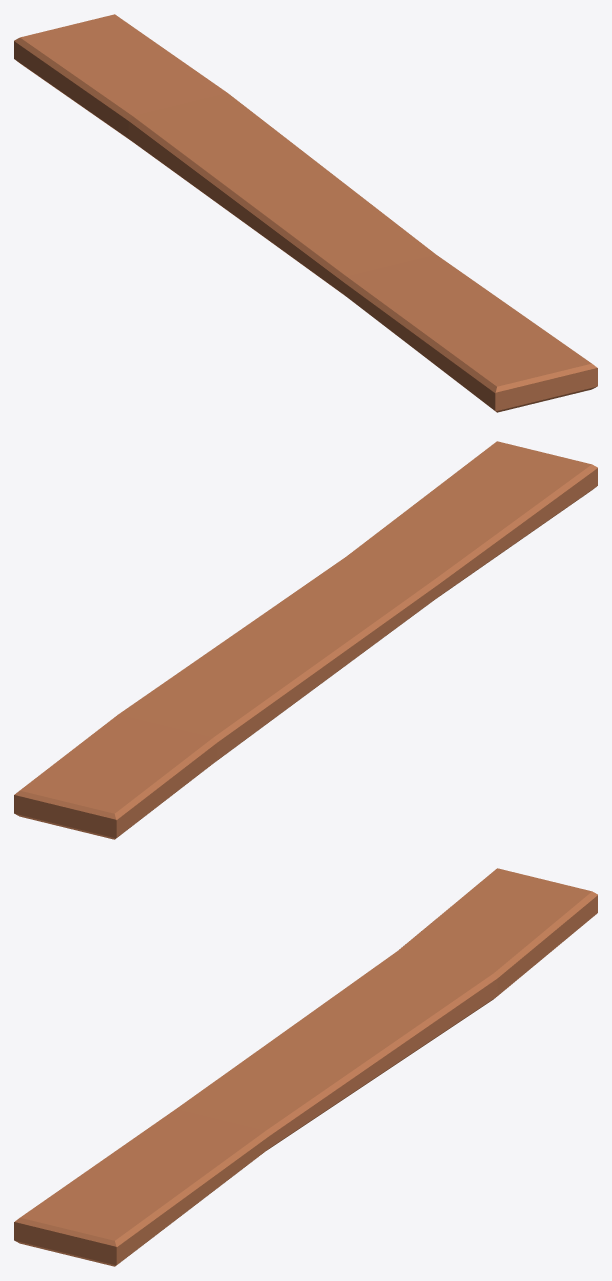
File: Board.fbx
The picture shows the model from 3 angles, top to bottom: view 1: azimuth 30°, elevation 25°; view 2: azimuth 150°, elevation 25°; view 3: azimuth 330°, elevation 25°; orthographic projection.
Parts seen in each view (by area): view 1: Cylinder; view 2: Cylinder; view 3: Cylinder.
Part boxes in pixels (<box>): Cylinder: <box>14,14,597,412</box>; Cylinder: <box>14,441,597,839</box>; Cylinder: <box>14,868,597,1266</box>.
Size of the model in its own units: 214 by 53.82 by 1622.
1 material, 1 textured.
